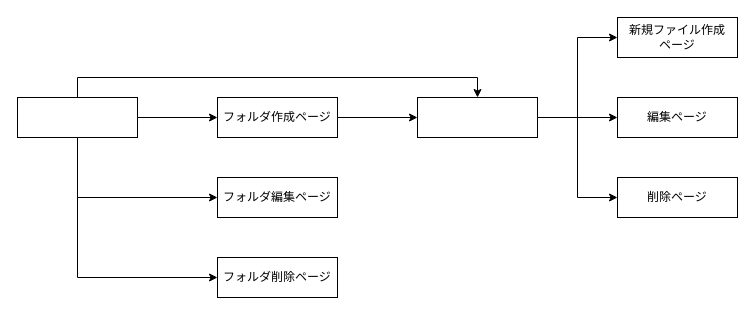
Image size: 755x315. Some labels were removed from this diagram. Here are the shapes that lost their labels. From the top down, the box of each, then its label:
(16, 96, 138, 138): Topページ
(416, 96, 538, 138): ファイル（フォルダの中）ページ
